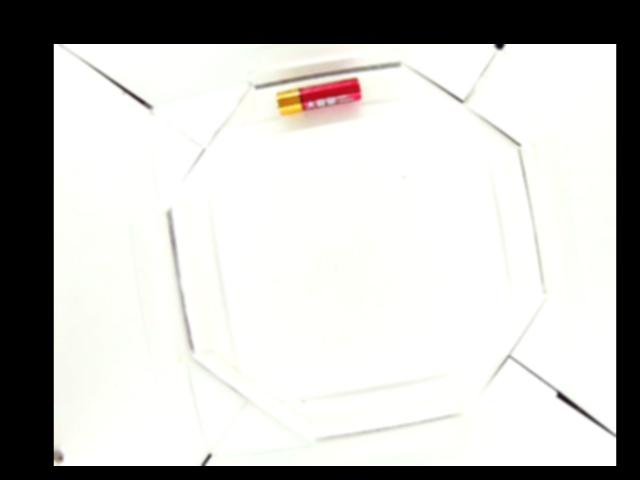Battery: (275, 77, 361, 109)
